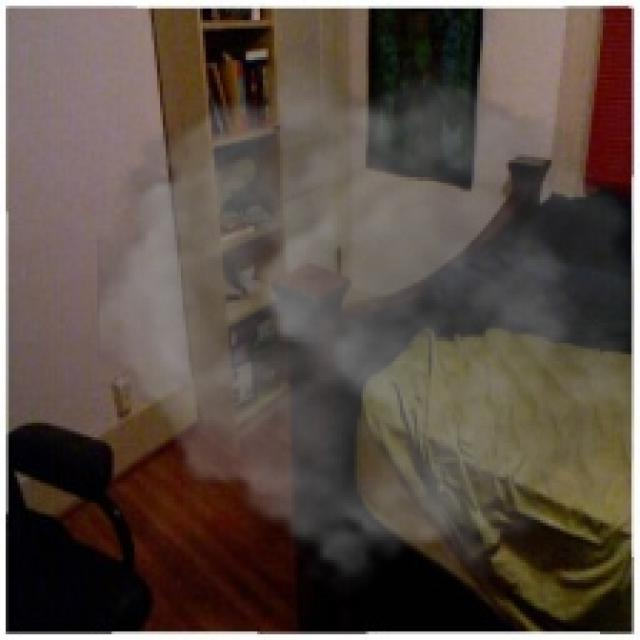smoke: (97, 37, 634, 600)
